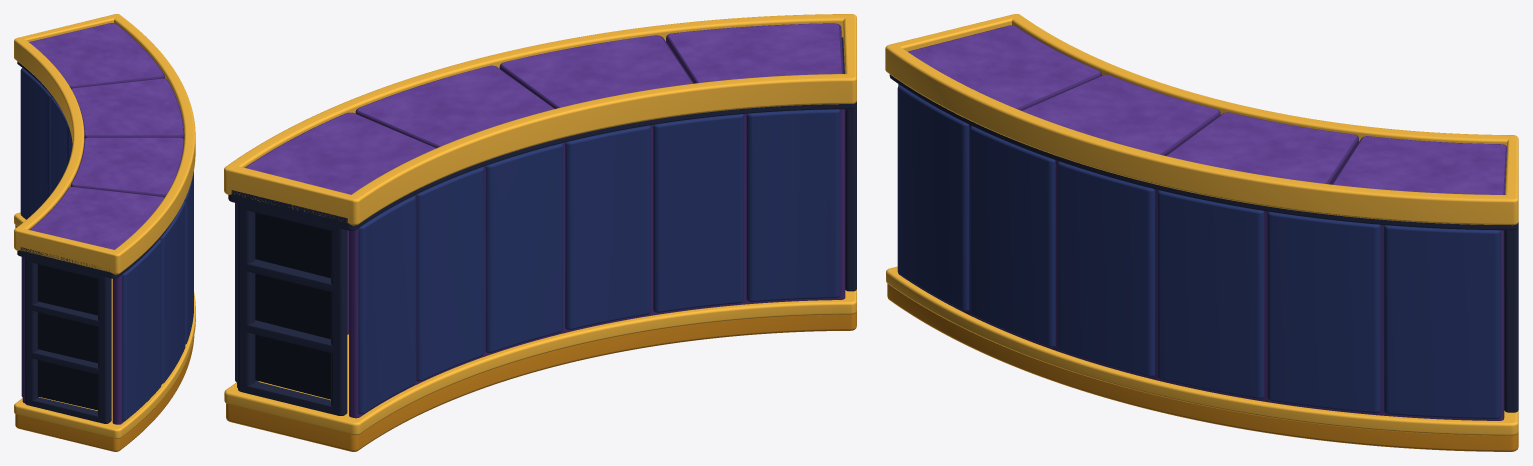
File: StageEdge.glb
The picture shows the model from 3 angles, left to right: view 1: azimuth 30°, elevation 25°; view 2: azimuth 150°, elevation 25°; view 3: azimuth 270°, elevation 25°; orthographic projection. The views are drawn at different scales.
Parts seen in each view (by area): view 1: EndSocketRecess, OuterBluePanel6, PurpleTopTile2, PurpleTopTile3, PurpleTopTile1, PurpleTopTile4, OuterTopGoldRail, InnerBluePanel1, OuterBluePanel5, InnerTopGoldRail, BottomGoldHighlight, BottomGoldPlinth (+14 smaller); view 2: InnerBluePanel6, InnerBluePanel5, InnerBluePanel4, InnerTopGoldRail, InnerBluePanel3, InnerBluePanel2, InnerBluePanel1, StartSocketRecess, BottomGoldPlinth, BottomGoldHighlight, PurpleTopTile2, PurpleTopTile3 (+13 smaller); view 3: OuterBluePanel1, OuterBluePanel2, OuterBluePanel3, OuterTopGoldRail, OuterBluePanel4, OuterBluePanel5, OuterBluePanel6, BottomGoldPlinth, BottomGoldHighlight, PurpleTopTile4, PurpleTopTile3, PurpleTopTile2 (+7 smaller).
Boxes of the visible parts, <box> form: EndSocketRecess: <box>38,264,97,410</box>; OuterBluePanel6: <box>122,239,161,420</box>; PurpleTopTile2: <box>71,78,184,138</box>; PurpleTopTile3: <box>70,137,184,197</box>; PurpleTopTile1: <box>29,23,164,88</box>; PurpleTopTile4: <box>29,187,164,249</box>; OuterTopGoldRail: <box>112,14,195,274</box>; InnerBluePanel1: <box>20,68,52,219</box>; OuterBluePanel5: <box>160,201,185,383</box>; InnerTopGoldRail: <box>14,37,84,249</box>; BottomGoldHighlight: <box>14,212,195,438</box>; BottomGoldPlinth: <box>15,225,194,451</box>; InnerBluePanel6: <box>746,109,840,301</box>; InnerBluePanel5: <box>653,114,743,312</box>; InnerBluePanel4: <box>565,125,650,329</box>; InnerTopGoldRail: <box>349,74,856,224</box>; InnerBluePanel3: <box>485,143,563,352</box>; InnerBluePanel2: <box>416,167,484,381</box>; InnerBluePanel1: <box>358,196,415,414</box>; StartSocketRecess: <box>255,212,330,399</box>; BottomGoldPlinth: <box>226,311,856,451</box>; BottomGoldHighlight: <box>224,289,856,435</box>; PurpleTopTile2: <box>355,65,554,147</box>; PurpleTopTile3: <box>499,35,693,108</box>; OuterBluePanel1: <box>1384,225,1500,419</box>; OuterBluePanel2: <box>1267,211,1380,413</box>; OuterBluePanel3: <box>1157,190,1264,398</box>; OuterTopGoldRail: <box>885,44,1518,225</box>; OuterBluePanel4: <box>1057,161,1154,376</box>; OuterBluePanel5: <box>970,126,1055,347</box>; OuterBluePanel6: <box>897,85,969,311</box>; BottomGoldPlinth: <box>887,283,1518,451</box>; BottomGoldHighlight: <box>886,266,1518,435</box>; PurpleTopTile4: <box>908,25,1101,110</box>; PurpleTopTile3: <box>1021,74,1220,155</box>; PurpleTopTile2: <box>1166,112,1358,184</box>.
Size of the model in its own units: 0.981 by 0.619 by 1.4.
7 materials, 7 textured.
